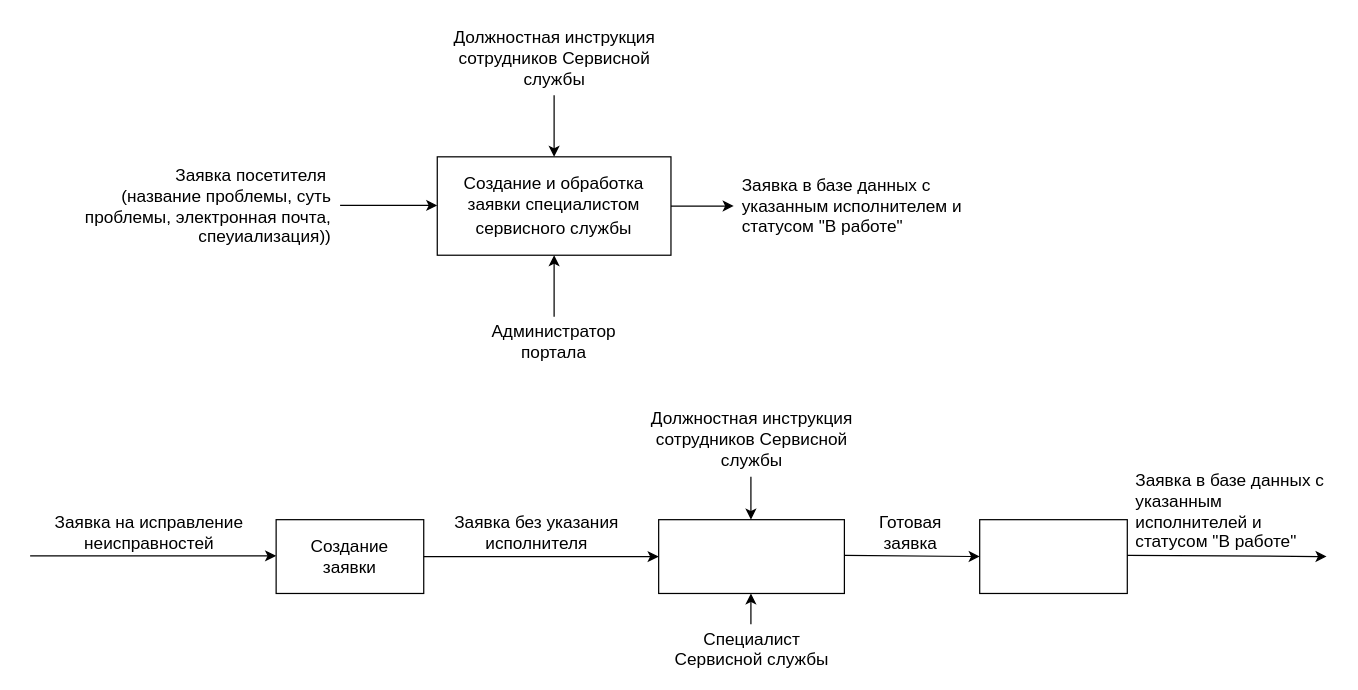
Some shapes in this 1358 by 690 pixel diagram are drawn without their labels. The centre of each missing label's shape, as x and y in pixels:
Изменение статуса заявки на "в работе": point 1052,555
Указание исполнителя: point 750,555
